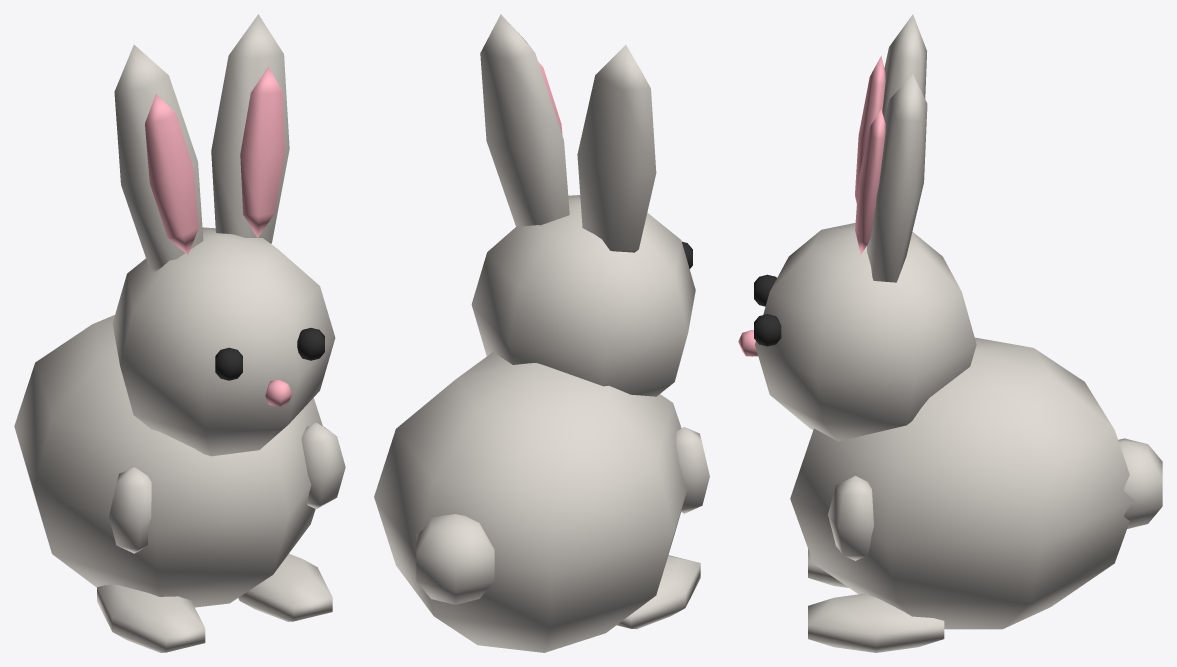
Rendered from rabbit.glb.
The picture shows the model from 3 angles, left to right: view 1: azimuth 30°, elevation 25°; view 2: azimuth 150°, elevation 25°; view 3: azimuth 270°, elevation 25°; orthographic projection. The views are drawn at different scales.
Visible parts, largest first — view 1: rig, ear_0, ear_2, ear_3, ear_1, foot_0, foot_1, arm_0, arm_1; view 2: rig, ear_2, ear_0, foot_0, arm_0; view 3: rig, ear_2, foot_1, arm_1, ear_3, ear_0, ear_1.
Part boxes in pixels (x1,y1,x2,y2): rig: [14, 227, 335, 607]; ear_0: [114, 45, 203, 272]; ear_2: [211, 14, 289, 243]; ear_3: [240, 66, 285, 237]; ear_1: [145, 94, 198, 254]; foot_0: [97, 584, 205, 652]; foot_1: [238, 554, 332, 621]; arm_0: [109, 467, 151, 553]; arm_1: [301, 422, 345, 509]; rig: [374, 195, 695, 652]; ear_2: [480, 14, 569, 226]; ear_0: [577, 45, 656, 252]; foot_0: [617, 555, 700, 629]; arm_0: [676, 427, 709, 513]; rig: [738, 223, 1162, 629]; ear_2: [867, 74, 927, 282]; foot_1: [808, 593, 944, 652]; arm_1: [828, 476, 873, 560]; ear_3: [855, 109, 885, 255]; ear_0: [882, 14, 927, 118]; ear_1: [855, 55, 885, 204].
Bounding box in the file's own units: 0.6729 × 1.44 × 0.9685.
